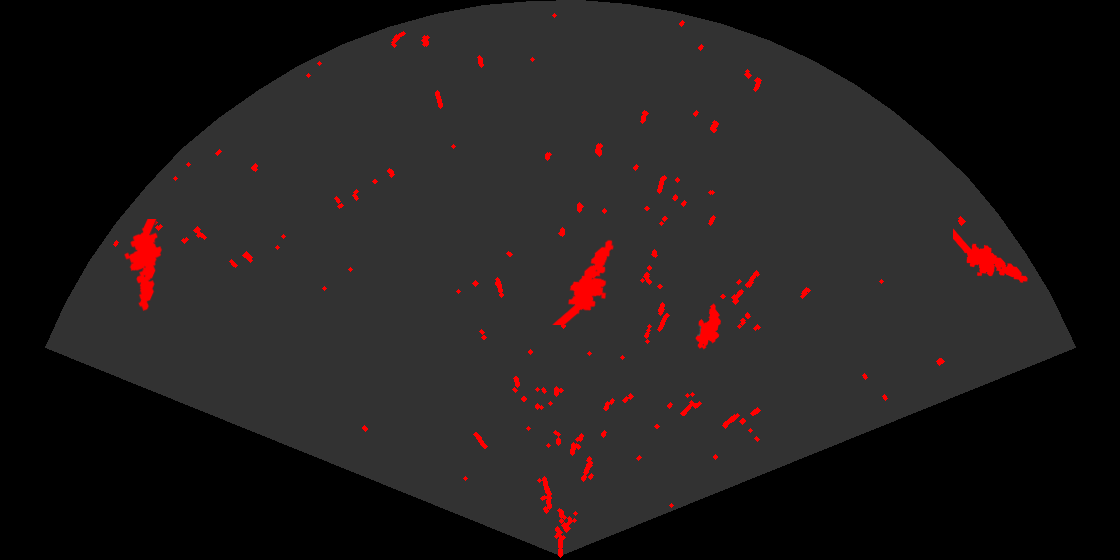AUV: (694, 302, 723, 351)
frogman: (551, 238, 615, 325), (953, 227, 1029, 284), (123, 219, 164, 313)
